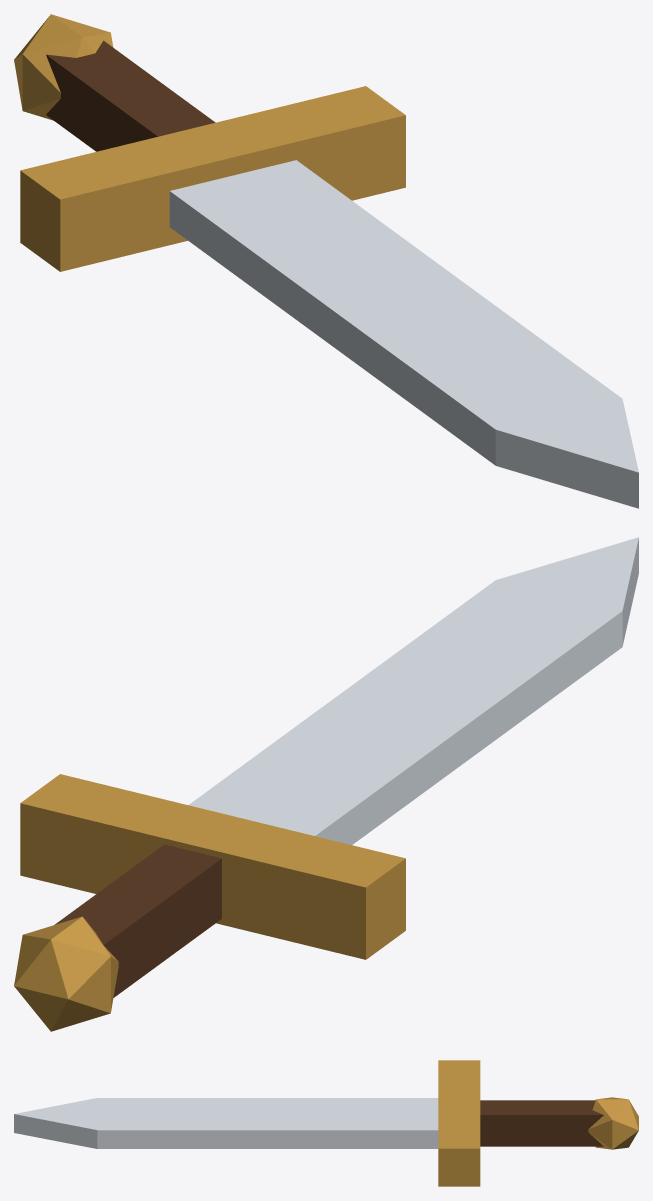
The model's file is prop-item-sword.glb.
3 views of the same model, one above another, from view 1: azimuth 30°, elevation 25°; view 2: azimuth 150°, elevation 25°; view 3: azimuth 270°, elevation 25° (orthographic). The views are drawn at different scales.
Visible parts, largest first — view 1: ItemSword; view 2: ItemSword; view 3: ItemSword.
Part boxes in pixels (box(x1,y1,x2,y2)): ItemSword: box(14, 14, 638, 508); ItemSword: box(14, 537, 638, 1031); ItemSword: box(14, 1060, 638, 1186).
Size of the model in its own units: 0.3 by 0.0766 by 0.8983.
